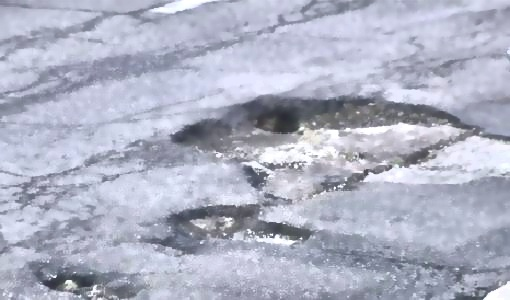pothole: (167, 91, 481, 200), (158, 201, 312, 246), (28, 259, 147, 298)
